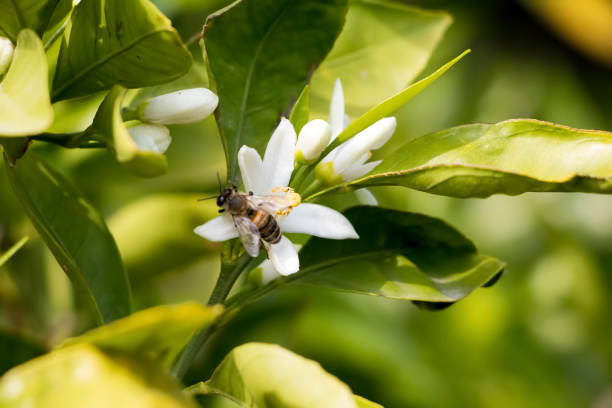flower: (182, 119, 351, 282)
